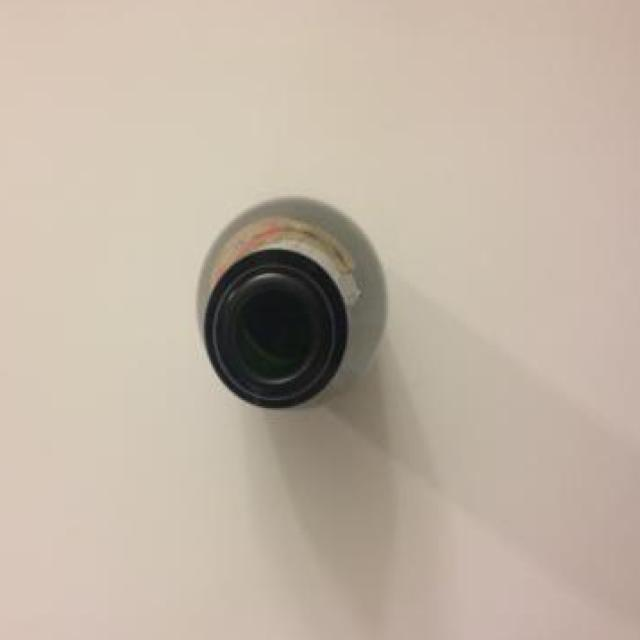organic: (188, 185, 392, 414)
